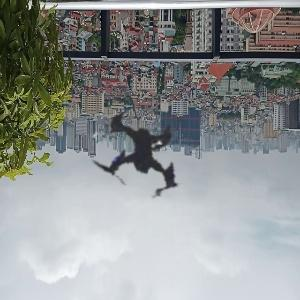drone: (8, 28, 270, 290)
